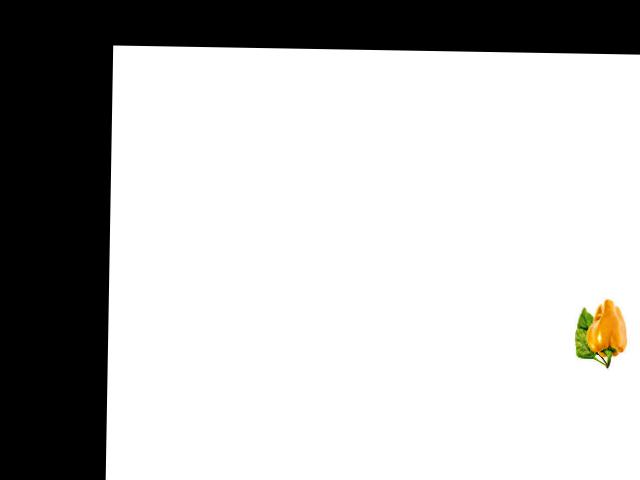bell_pepper: (584, 297, 631, 369)
